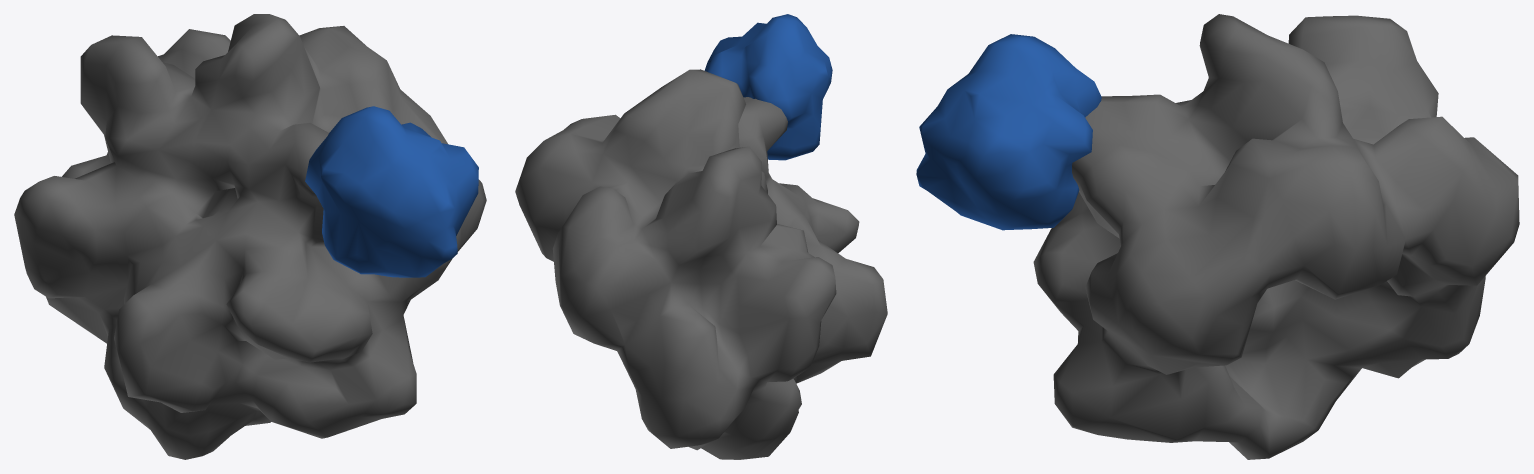
File: HIV1_CAhexCyclophilA_0_1_0.dae
The picture shows the model from 3 angles, left to right: view 1: azimuth 30°, elevation 25°; view 2: azimuth 150°, elevation 25°; view 3: azimuth 270°, elevation 25°; orthographic projection. The views are drawn at different scales.
Visible parts, largest first — view 1: CoarseMS_1AK4fitTo1VU4hex_Selection1, CoarseMS_1AK4fitTo1VU4hex_Selection0; view 2: CoarseMS_1AK4fitTo1VU4hex_Selection1, CoarseMS_1AK4fitTo1VU4hex_Selection0; view 3: CoarseMS_1AK4fitTo1VU4hex_Selection1, CoarseMS_1AK4fitTo1VU4hex_Selection0.
Boxes of the visible parts, x1=… form: CoarseMS_1AK4fitTo1VU4hex_Selection1: x1=14, y1=14, x2=486, y2=459; CoarseMS_1AK4fitTo1VU4hex_Selection0: x1=305, y1=106, x2=478, y2=277; CoarseMS_1AK4fitTo1VU4hex_Selection1: x1=515, y1=69, x2=887, y2=459; CoarseMS_1AK4fitTo1VU4hex_Selection0: x1=704, y1=14, x2=832, y2=160; CoarseMS_1AK4fitTo1VU4hex_Selection1: x1=1033, y1=14, x2=1519, y2=459; CoarseMS_1AK4fitTo1VU4hex_Selection0: x1=916, y1=34, x2=1101, y2=230.
Size of the model in its own units: 108 by 114 by 136.
